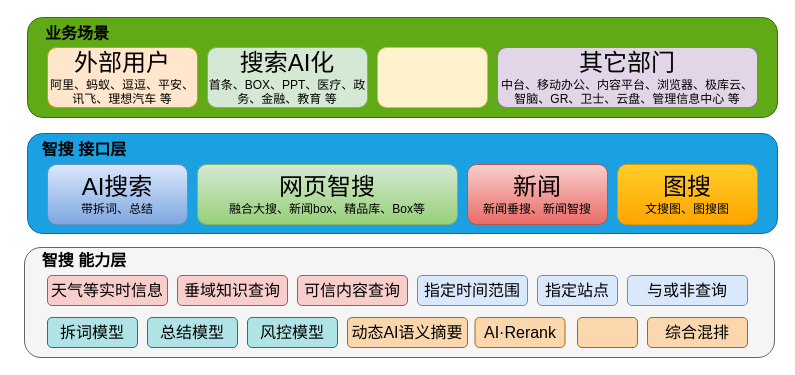
Image size: 795x375. Some labels were removed from this diagram. Here are the shapes that lost their labels. From the top down, the centre of each, then its label:
At point 432,77: "纳米 AI搜索、智写 等".
At point 607,332: "权威性".
